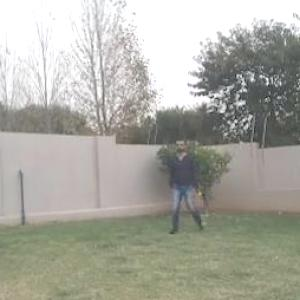follow: (170, 132, 196, 238)
